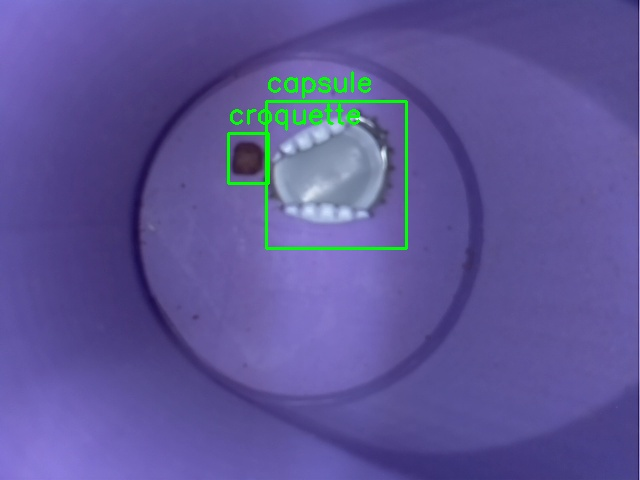capsule: (266, 101, 406, 248)
croquette: (228, 133, 268, 183)
